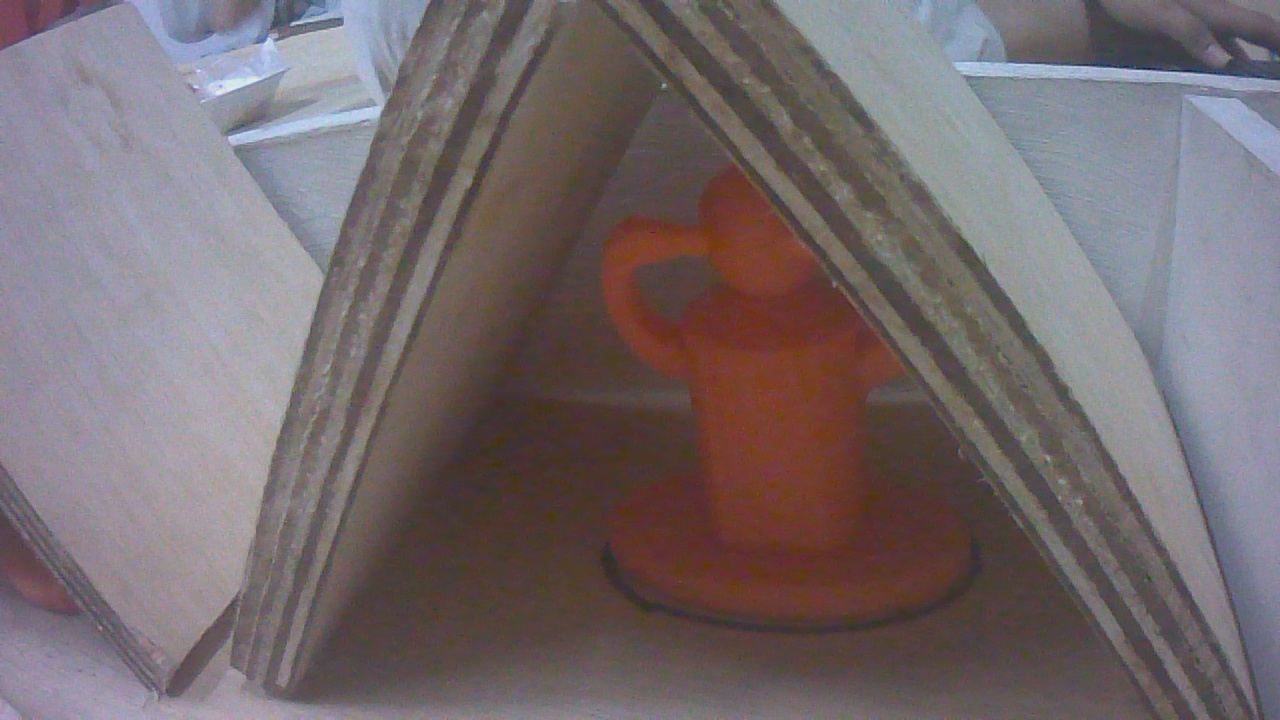real: (580, 135, 973, 646)
